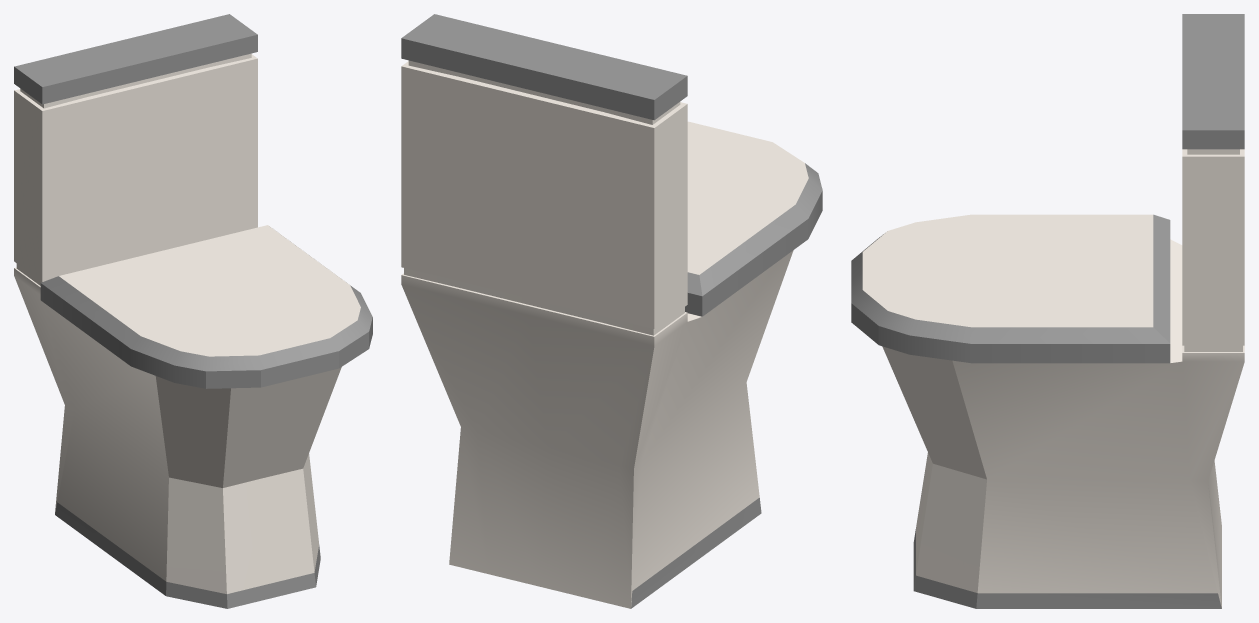
File: ToiletClosed.fbx
The picture shows the model from 3 angles, left to right: view 1: azimuth 30°, elevation 25°; view 2: azimuth 150°, elevation 25°; view 3: azimuth 270°, elevation 25°; orthographic projection. The views are drawn at different scales.
Visible parts, largest first — view 1: ToiletClosed; view 2: ToiletClosed; view 3: ToiletClosed.
Boxes of the visible parts, x1,y1,x2,y2 form: ToiletClosed: [14, 14, 372, 608]; ToiletClosed: [401, 14, 822, 608]; ToiletClosed: [851, 14, 1244, 608].
Size of the model in its own units: 167 by 312 by 225.
